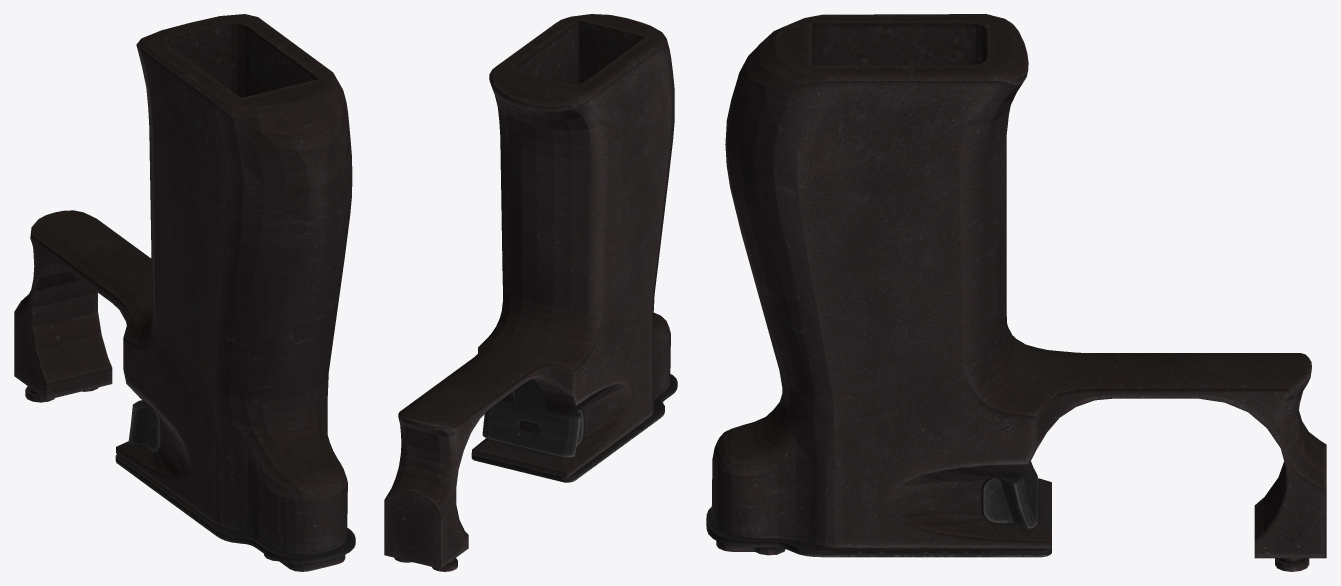
The picture shows the model from 3 angles, left to right: view 1: azimuth 30°, elevation 25°; view 2: azimuth 150°, elevation 25°; view 3: azimuth 270°, elevation 25°; orthographic projection. The views are drawn at different scales.
Visible parts, largest first — view 1: TW_637b9c37b7e3bc41b21ce71a_PZ_Import; view 2: TW_637b9c37b7e3bc41b21ce71a_PZ_Import; view 3: TW_637b9c37b7e3bc41b21ce71a_PZ_Import.
Boxes of the visible parts, x1,y1,x2,y2 form: TW_637b9c37b7e3bc41b21ce71a_PZ_Import: (14,14,355,571); TW_637b9c37b7e3bc41b21ce71a_PZ_Import: (384,14,677,571); TW_637b9c37b7e3bc41b21ce71a_PZ_Import: (706,14,1326,571).
Bounding box in the file's own units: 0.0188 × 0.0751 × 0.068.
1 material, 1 textured.
